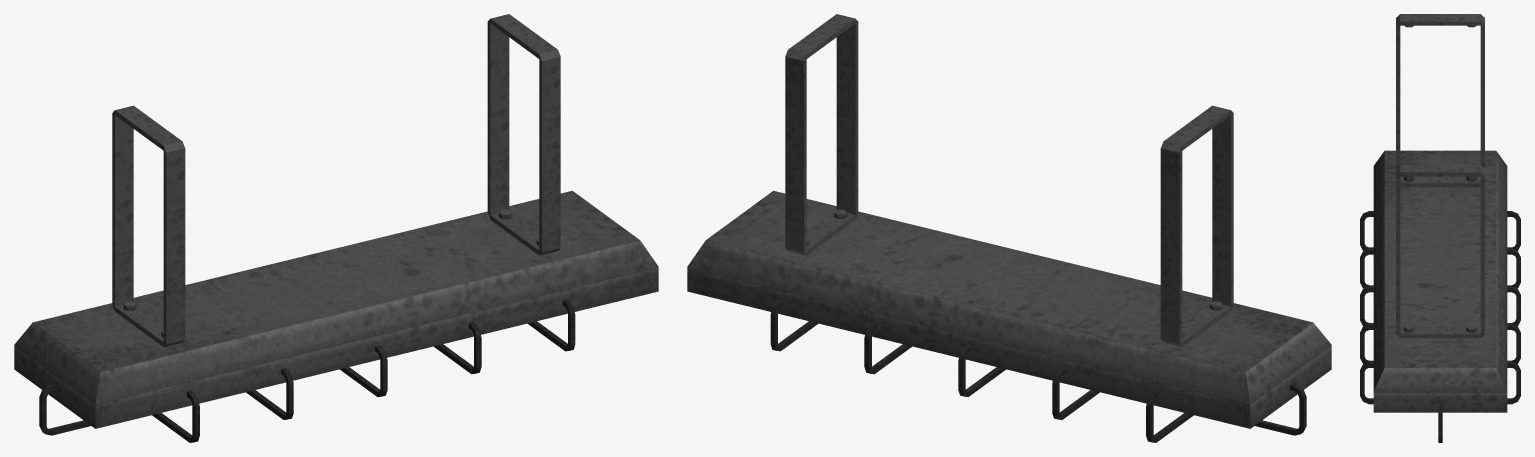
The model's file is ceiling_lamp_4_1_b_on.obj.
3 renders of one model, left to right at view 1: azimuth 30°, elevation 25°; view 2: azimuth 150°, elevation 25°; view 3: azimuth 270°, elevation 25°, orthographic. The views are drawn at different scales.
Visible parts, largest first — view 1: ceiling_lamp_4_1_b_on, ceiling_lamp_4_1_b_on_protector; view 2: ceiling_lamp_4_1_b_on, ceiling_lamp_4_1_b_on_protector; view 3: ceiling_lamp_4_1_b_on, ceiling_lamp_4_1_b_on_protector.
Boxes of the visible parts, box(x1,y1,x2,y2) form: ceiling_lamp_4_1_b_on: box(14, 14, 658, 428); ceiling_lamp_4_1_b_on_protector: box(39, 299, 575, 442); ceiling_lamp_4_1_b_on: box(687, 14, 1331, 428); ceiling_lamp_4_1_b_on_protector: box(770, 299, 1306, 442); ceiling_lamp_4_1_b_on: box(1373, 14, 1507, 412); ceiling_lamp_4_1_b_on_protector: box(1360, 211, 1520, 442).
Bounding box in the file's own units: 1.26 × 0.58 × 0.36.
